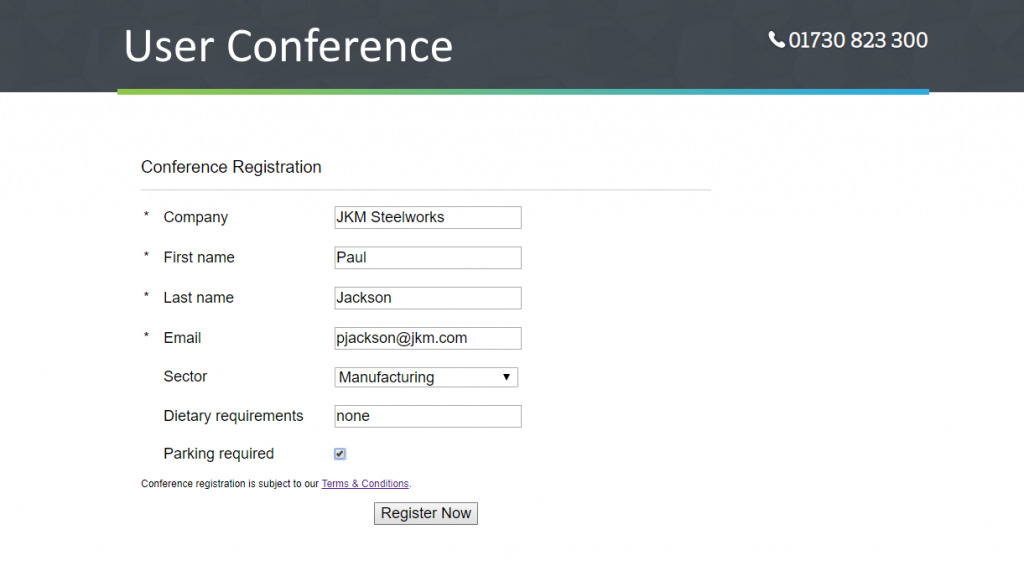_form_: (129, 132, 545, 548)
button: (372, 501, 480, 525)
checkbox: (332, 446, 346, 463)
checkbox_with_label: (163, 445, 348, 464)
field: (333, 244, 523, 271), (333, 324, 523, 351), (331, 285, 522, 311), (333, 403, 523, 429), (333, 205, 523, 230)
field_with_label: (162, 323, 525, 353), (163, 243, 525, 272), (165, 402, 525, 430), (161, 285, 525, 312), (164, 204, 525, 230), (164, 364, 521, 389)
select: (333, 366, 518, 388)
